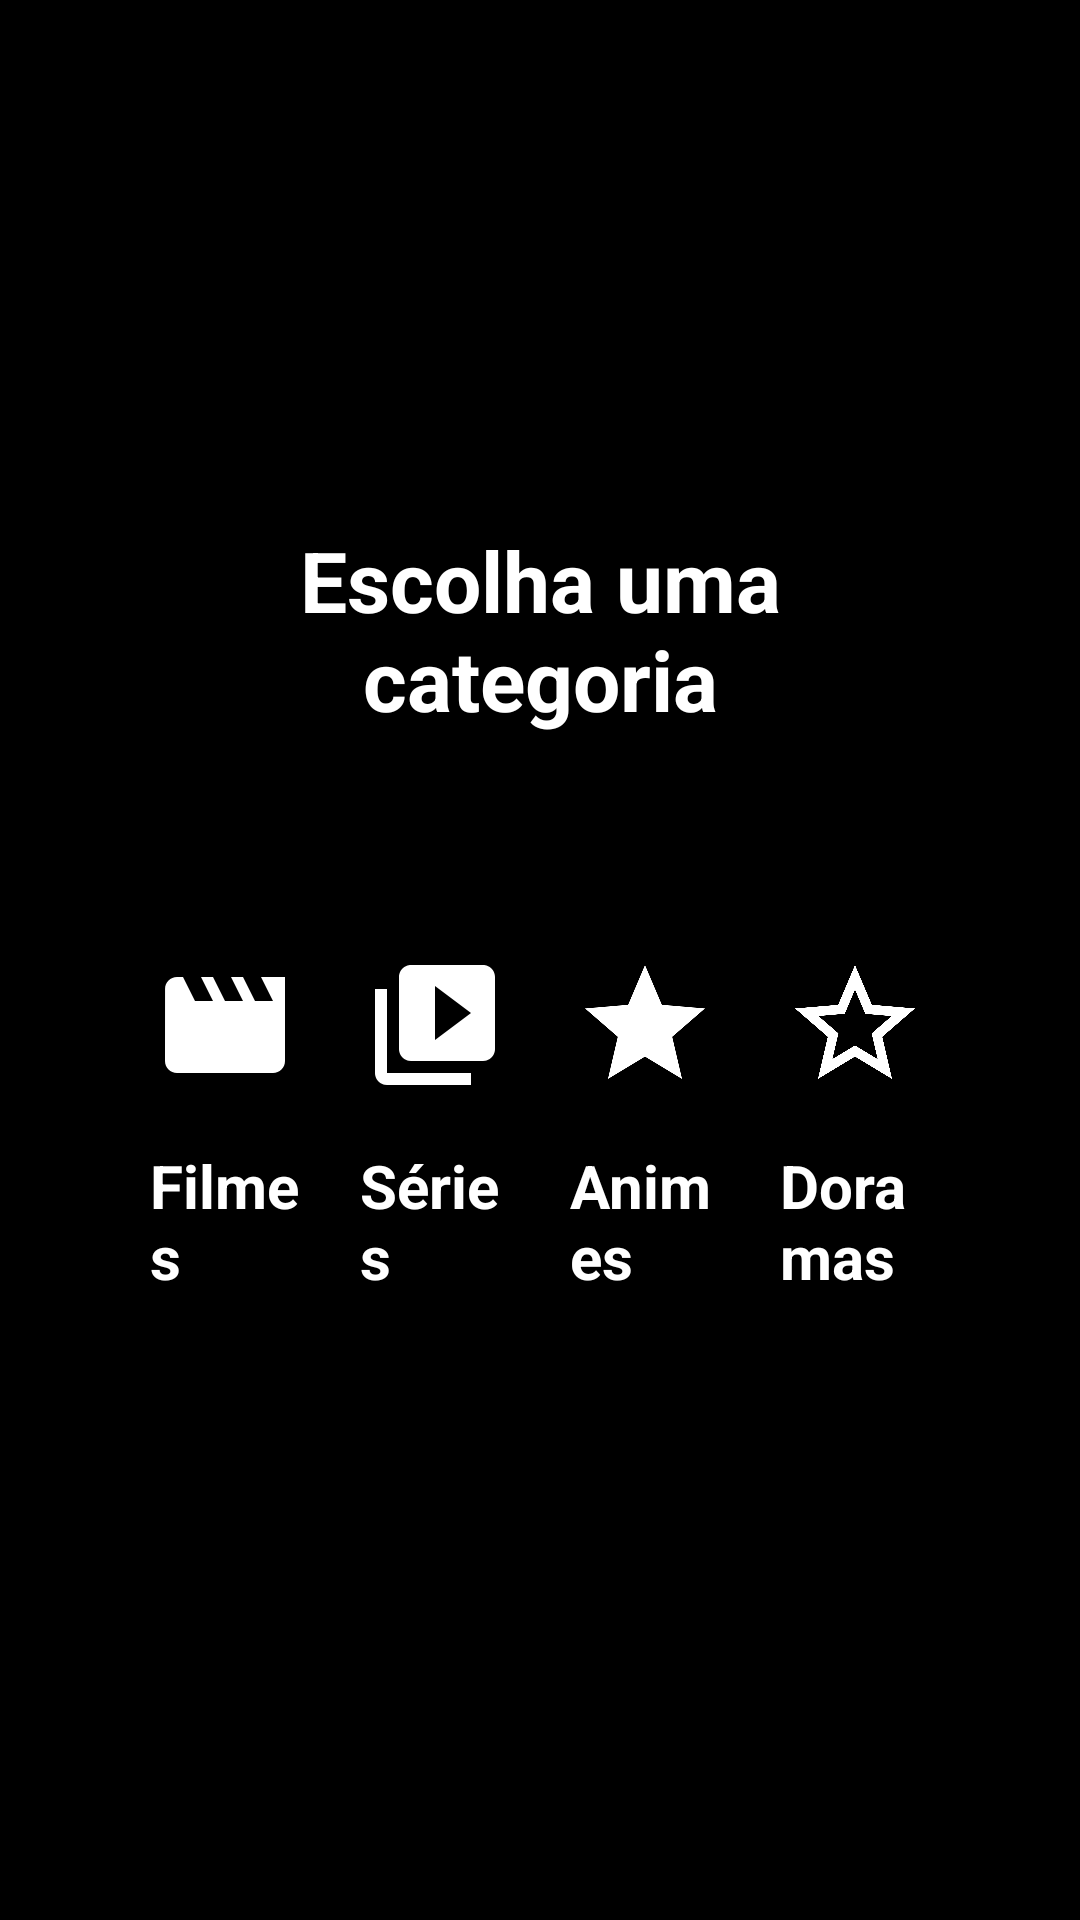

Icon bounding boxes for this 1080px×1920px phone screenshot, format [left=x1, top=y1, right=x2, bottom=y2]:
episodes: [left=375, top=965, right=495, bottom=1085]
movie: [left=165, top=977, right=285, bottom=1073]
star: [left=585, top=966, right=705, bottom=1079], [left=795, top=966, right=915, bottom=1079]
